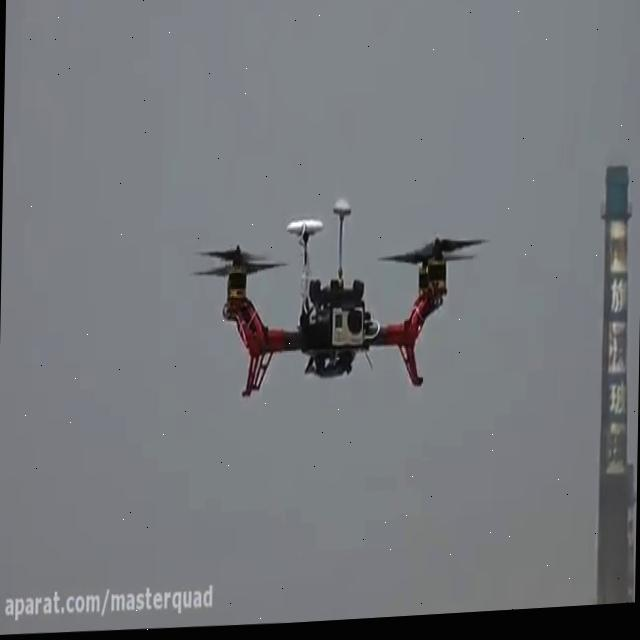drone: (182, 187, 492, 411)
